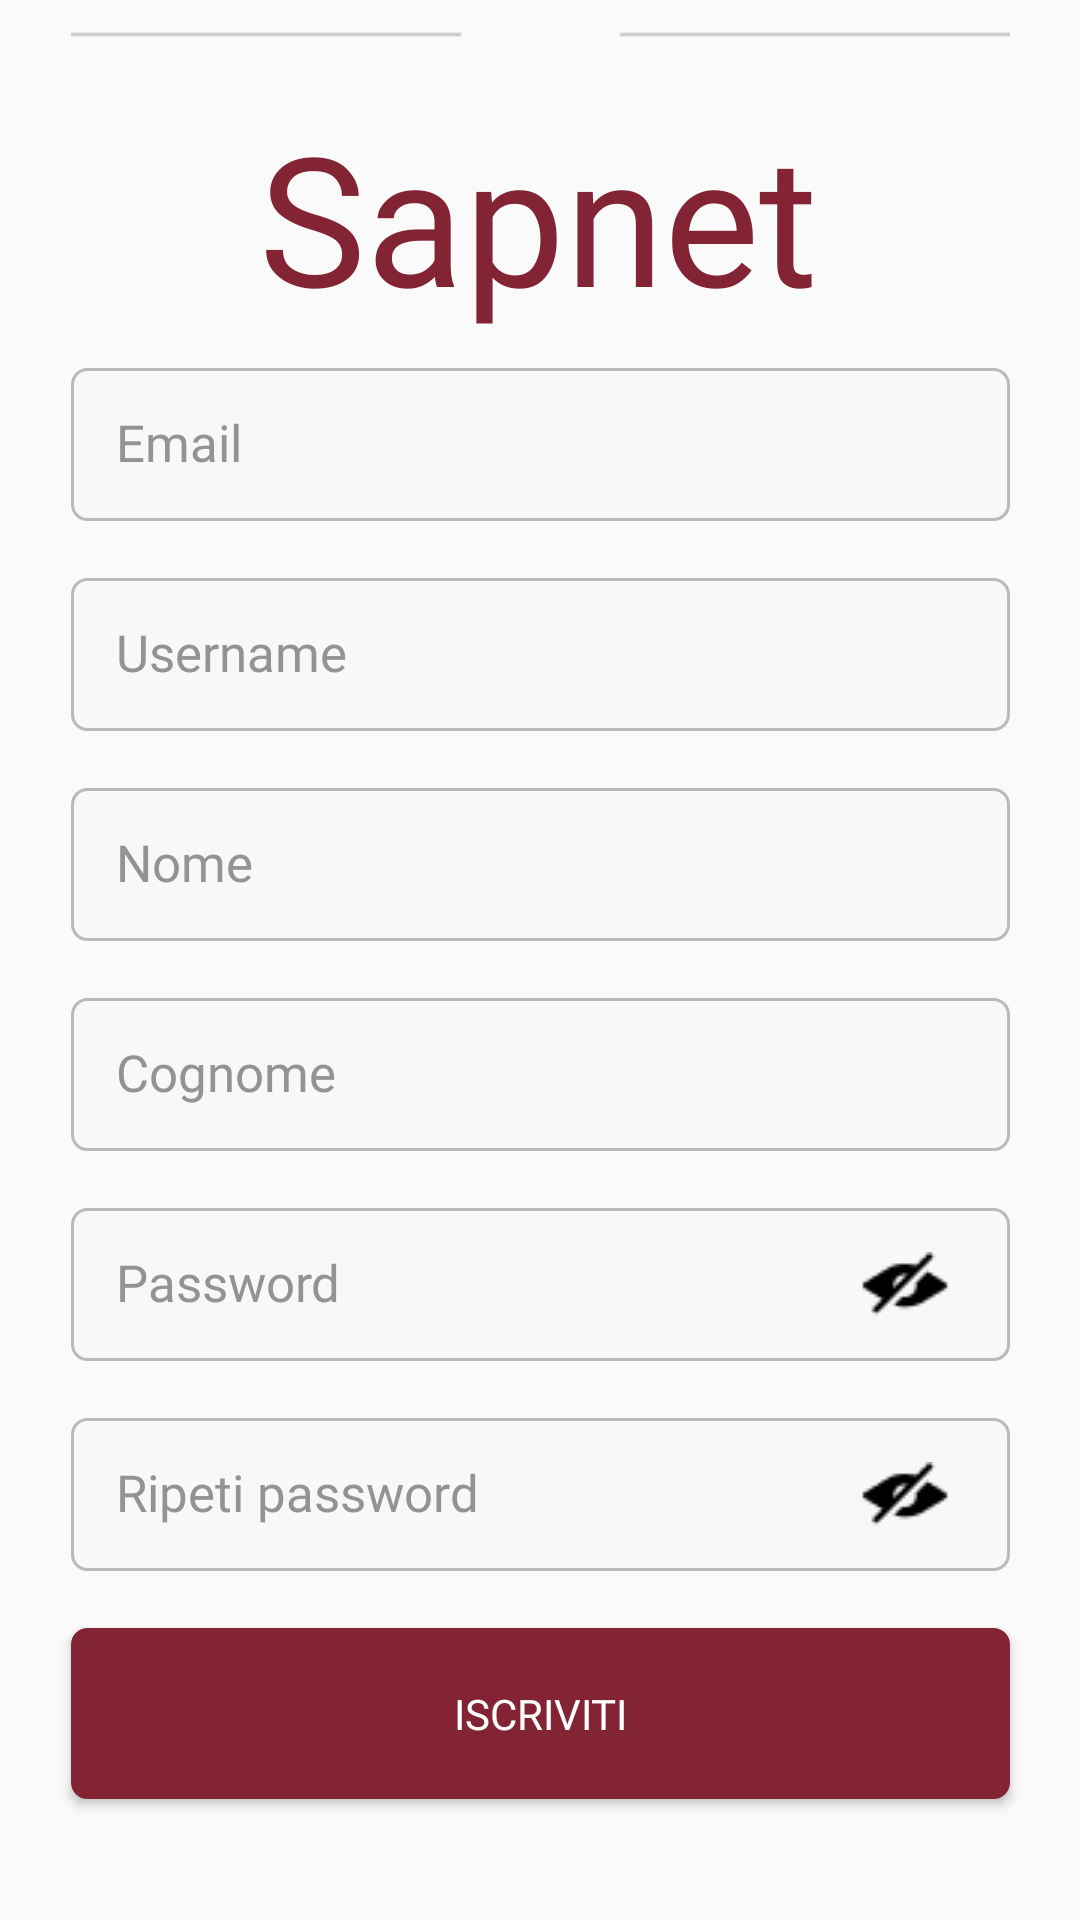

Icons on this 1080 × 1920 Android screen, each with the point to tap as (x,y):
occhietto show pass: (905,1283), (905,1493)
